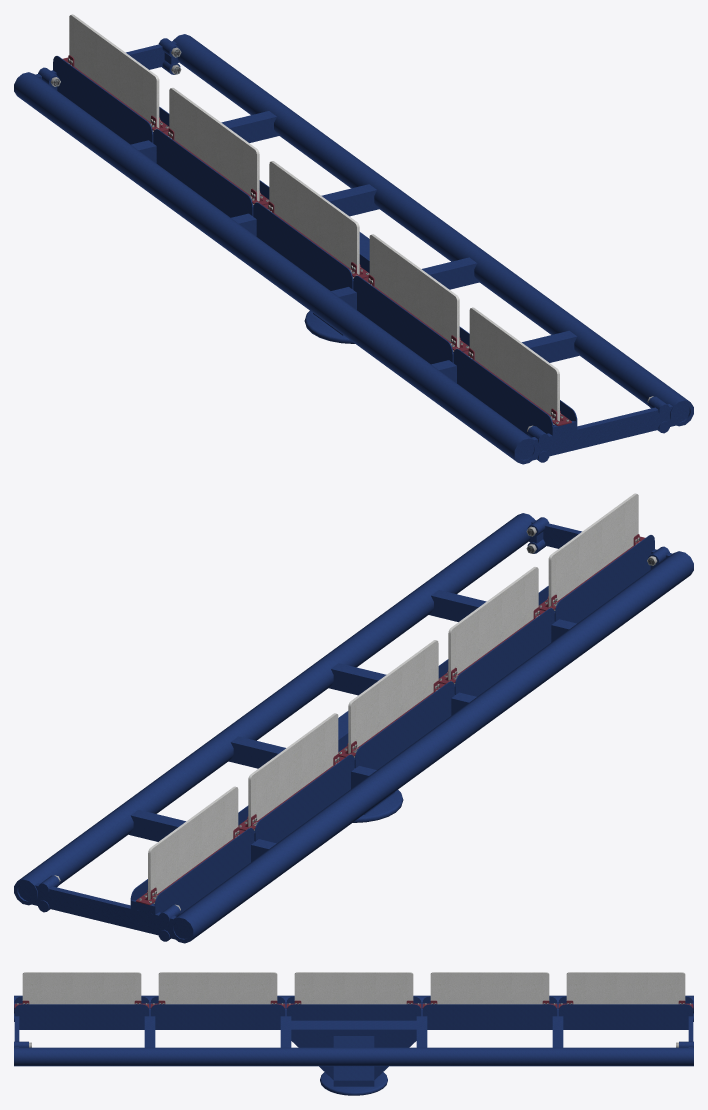
File: Trim Section (Fixed).dae
3 views of the same model, one above another, from view 1: azimuth 30°, elevation 25°; view 2: azimuth 150°, elevation 25°; view 3: azimuth 270°, elevation 25° (orthographic). The views are drawn at different scales.
Visible parts, largest first — view 1: Track (×8), Mid_Detail (×10); view 2: Track (×8), Mid_Detail (×10); view 3: Mid_Detail (×10), Track (×6).
Boxes of the visible parts, left/top/right/bottom form: Track (×8): left=14, top=34, right=693, bottom=464; Mid_Detail (×10): left=53, top=14, right=559, bottom=435; Track (×8): left=14, top=513, right=693, bottom=943; Mid_Detail (×10): left=148, top=493, right=654, bottom=914; Mid_Detail (×10): left=14, top=972, right=693, bottom=1029; Track (×6): left=14, top=995, right=693, bottom=1095.
Size of the model in its own units: 40.76 by 197 by 30.68.
Materials: 6 (4 with a texture image).
